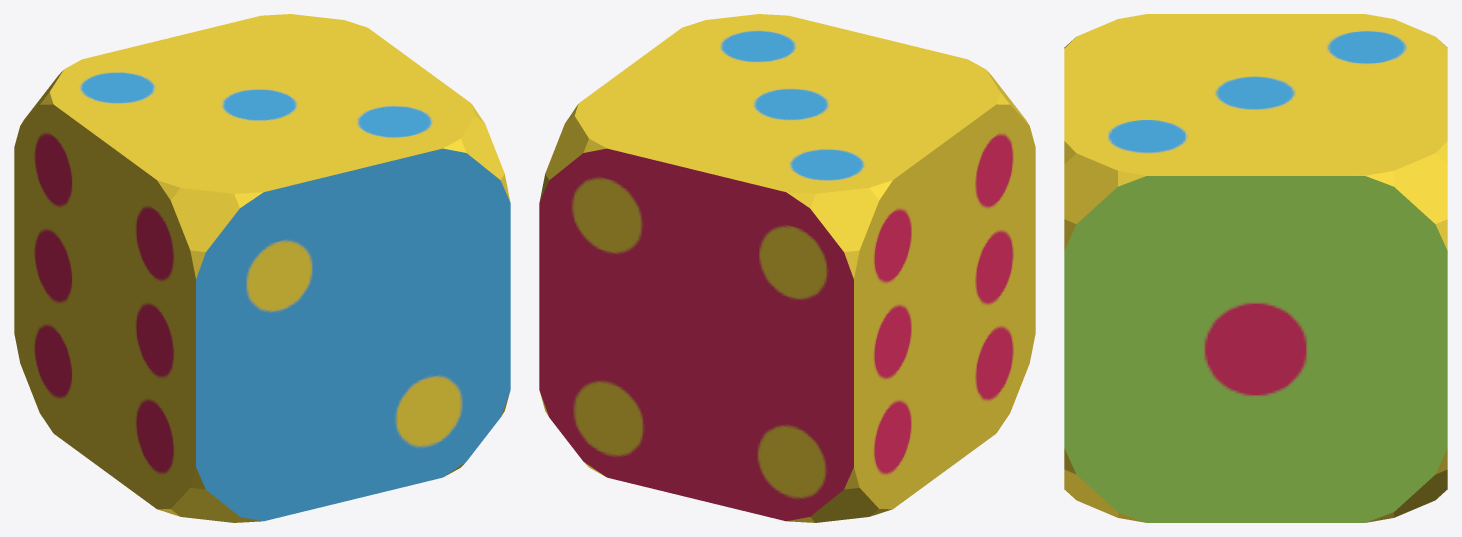
The model's file is Dice.gltf.
The picture shows the model from 3 angles, left to right: view 1: azimuth 30°, elevation 25°; view 2: azimuth 150°, elevation 25°; view 3: azimuth 270°, elevation 25°; orthographic projection. The views are drawn at different scales.
Visible parts, largest first — view 1: Dice; view 2: Dice; view 3: Dice.
Boxes of the visible parts, <box> form: Dice: <box>14,14,510,522</box>; Dice: <box>539,14,1035,522</box>; Dice: <box>1064,14,1447,522</box>.
Bounding box in the file's own units: 2 × 2 × 2.
1 material, 1 textured.
